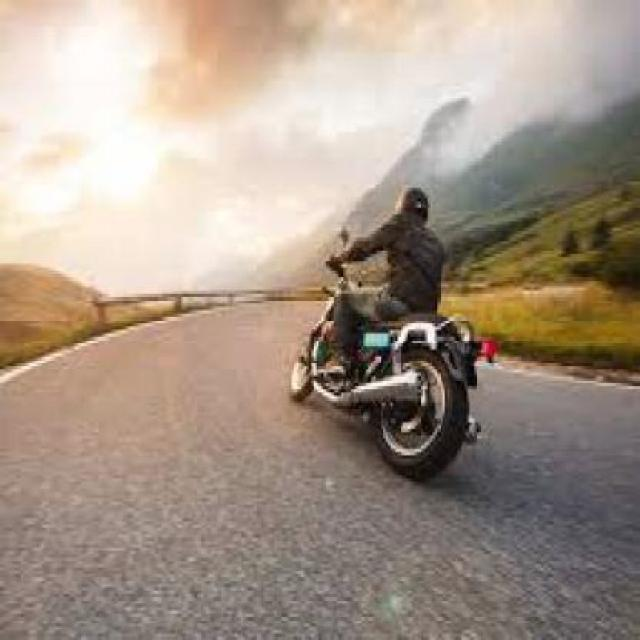motorbike: (282, 182, 486, 478)
